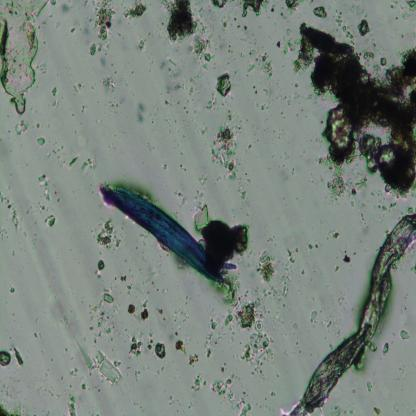Background material: (290, 20, 416, 209), (0, 0, 49, 117), (222, 298, 274, 381), (196, 201, 252, 267), (156, 52, 212, 110), (207, 126, 248, 200), (74, 337, 124, 385), (160, 1, 198, 47), (211, 374, 251, 414), (269, 250, 297, 304), (90, 0, 116, 58), (42, 287, 75, 331), (87, 293, 116, 341), (50, 4, 81, 38), (94, 218, 122, 250), (325, 166, 349, 202), (0, 192, 21, 230), (249, 47, 274, 77), (272, 25, 294, 56), (204, 318, 219, 361), (193, 38, 213, 66), (261, 252, 277, 285), (36, 173, 52, 204), (122, 3, 148, 22), (148, 333, 166, 360), (25, 220, 40, 252), (241, 0, 269, 17), (253, 86, 270, 112), (73, 131, 93, 153), (216, 72, 232, 99), (128, 336, 144, 360), (356, 16, 373, 38), (101, 71, 116, 95), (117, 271, 131, 293), (308, 238, 324, 256), (0, 402, 21, 415), (16, 120, 32, 137), (79, 156, 95, 173), (192, 375, 207, 392), (174, 338, 188, 356), (2, 374, 14, 395), (0, 348, 12, 369), (323, 316, 337, 334), (172, 189, 188, 204), (285, 1, 303, 14), (136, 104, 147, 125), (14, 346, 24, 369), (223, 40, 235, 58), (66, 394, 76, 415), (313, 6, 327, 21), (44, 213, 57, 229), (141, 300, 150, 322), (188, 353, 200, 369), (7, 282, 19, 298), (404, 0, 416, 16), (238, 25, 250, 40), (70, 79, 84, 91), (68, 154, 80, 168), (400, 327, 411, 341), (224, 107, 233, 124), (212, 0, 230, 8), (35, 136, 46, 149), (334, 228, 344, 242), (96, 259, 106, 273), (381, 342, 390, 357), (176, 162, 188, 173), (137, 38, 148, 50), (309, 310, 318, 324), (128, 302, 136, 316), (222, 24, 233, 34), (52, 86, 60, 99), (343, 255, 353, 265), (332, 262, 340, 274), (79, 103, 88, 113), (366, 380, 372, 394), (80, 382, 88, 392), (34, 328, 40, 340), (374, 406, 381, 414), (248, 142, 254, 149), (302, 268, 306, 276)
Cellulose filter fibre: (291, 213, 416, 415)
Cotton: (99, 184, 229, 284)
